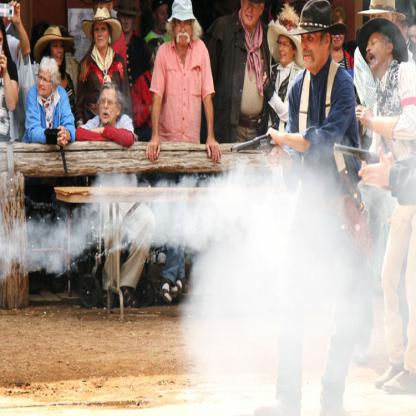gun: (331, 129, 395, 201), (224, 122, 290, 175)
